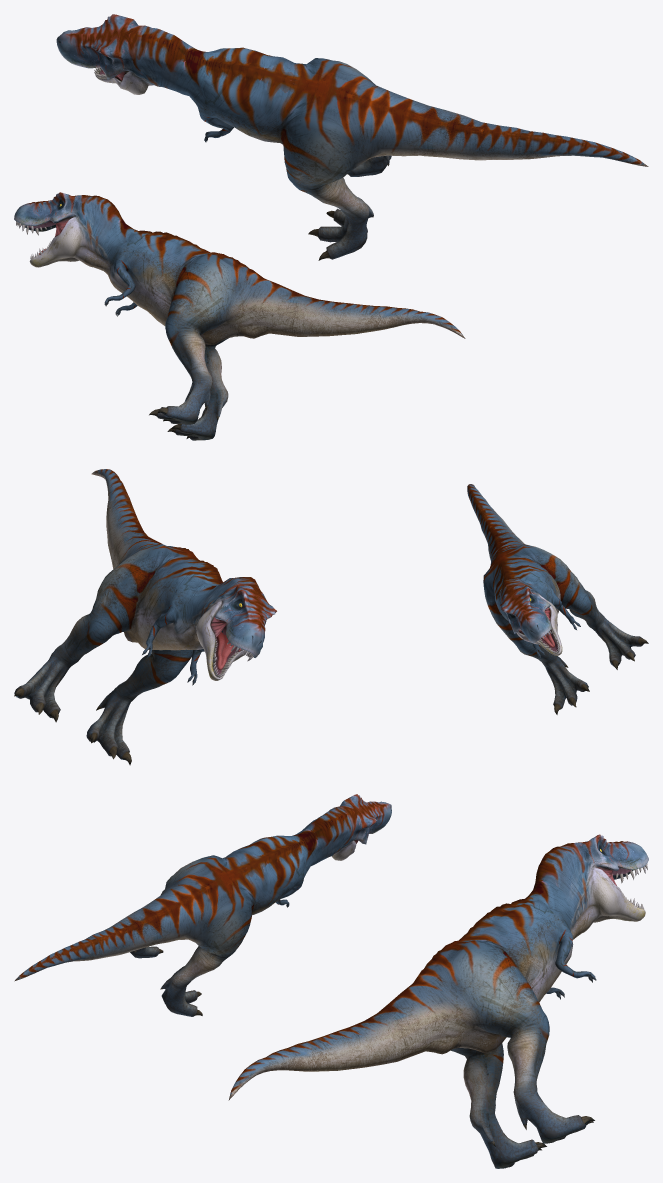
File: dinosaurios6.fbx
3 renders of one model, top to bottom at view 1: azimuth 30°, elevation 25°; view 2: azimuth 150°, elevation 25°; view 3: azimuth 270°, elevation 25°, orthographic. The views are drawn at different scales.
Visible parts, largest first — view 1: Object_162, Object_82; view 2: Object_162, Object_82; view 3: Object_162, Object_82.
Part boxes in pixels (x1,y1,x2,y2): Object_162: (56,14,648,260); Object_82: (14,192,465,440); Object_162: (14,469,276,765); Object_82: (467,484,648,714); Object_162: (228,834,648,1168); Object_82: (14,794,391,1016).
Size of the model in its own units: 1361 by 596 by 1363.
Materials: 2 (2 with a texture image).
